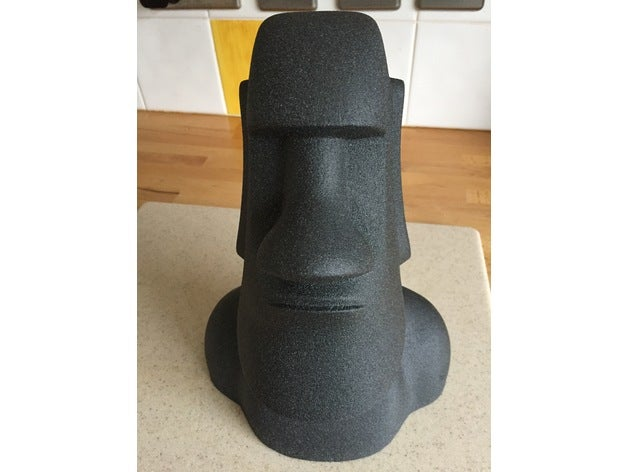Good: (193, 8, 455, 468)
